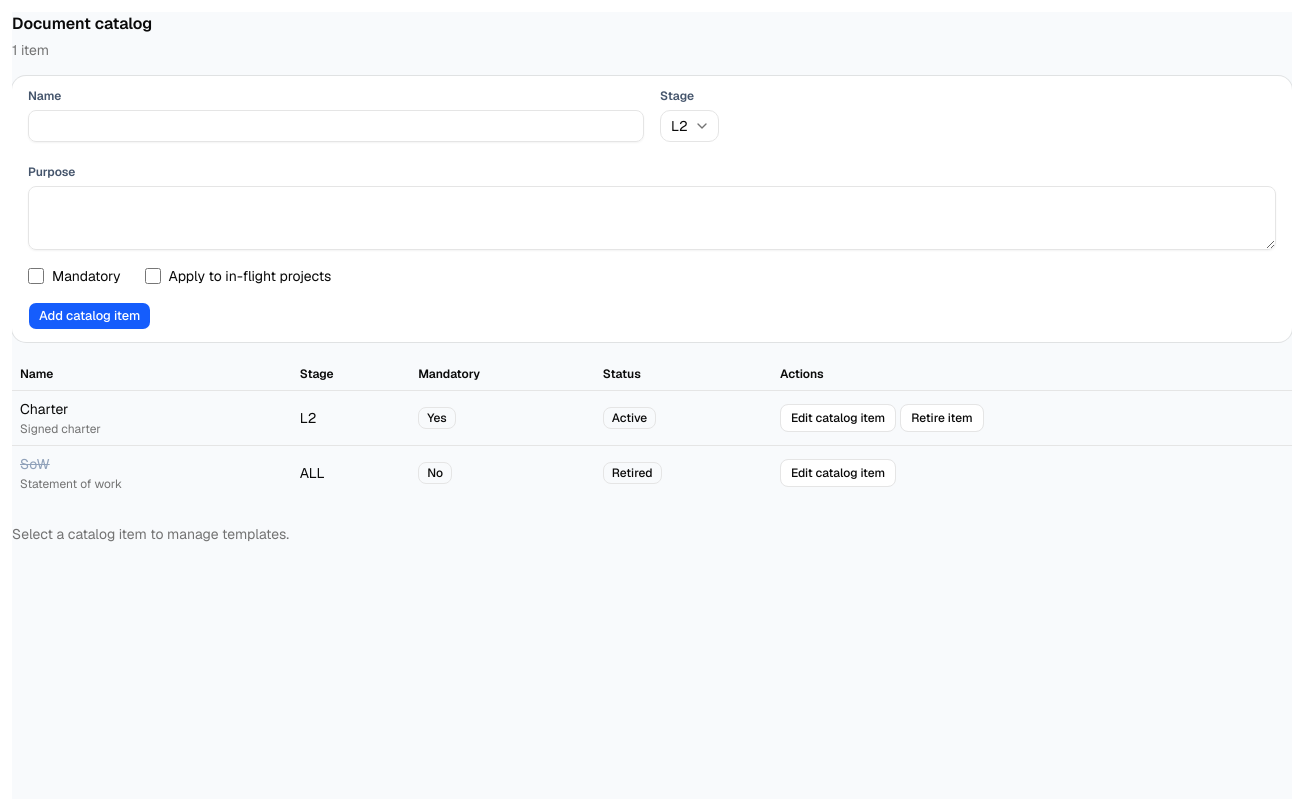
Test: DocumentCatalogPage › templates panel › ignores stale template GET when catalog selection changes quickly
Step 1. Click the text "Charter" → {"x": 44, "y": 408}, box [20,400,68,418]
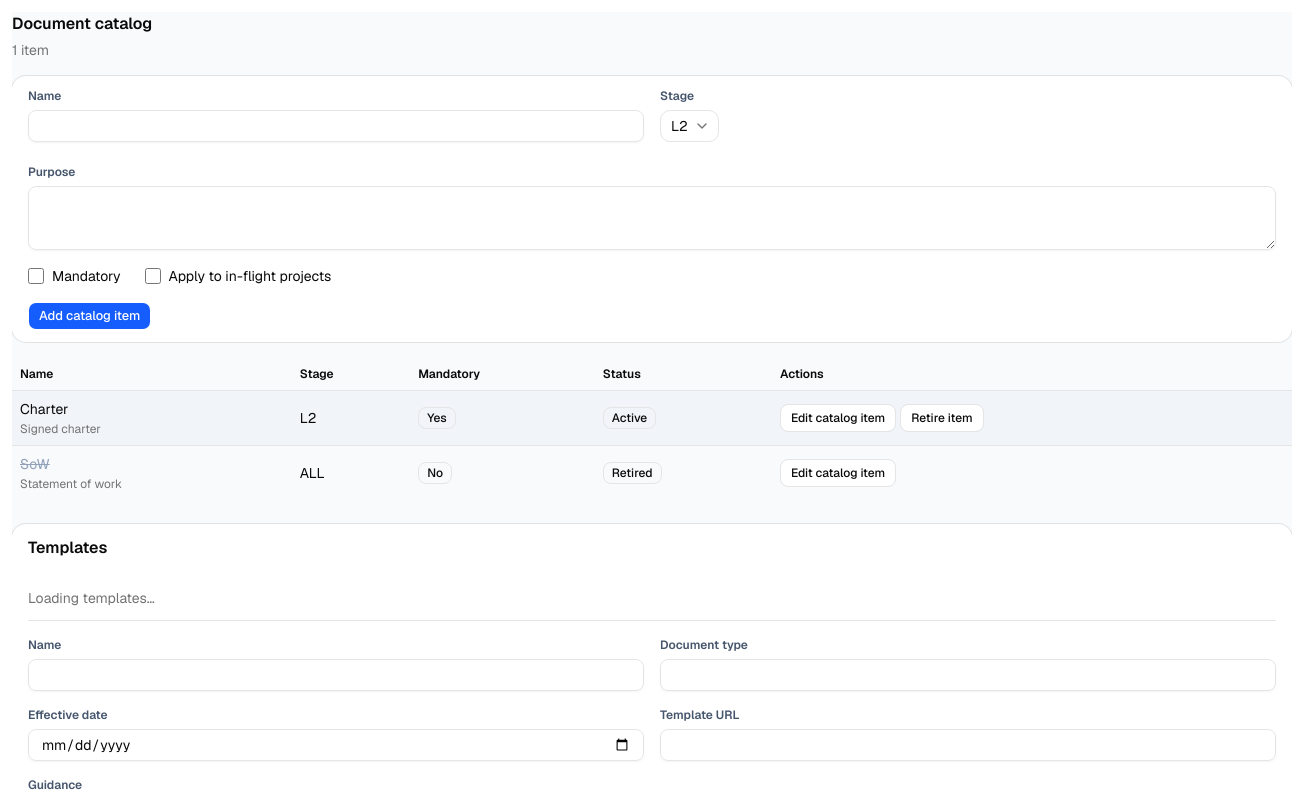
Step 2. Click the text "SoW" → {"x": 35, "y": 464}, box [20,454,50,472]
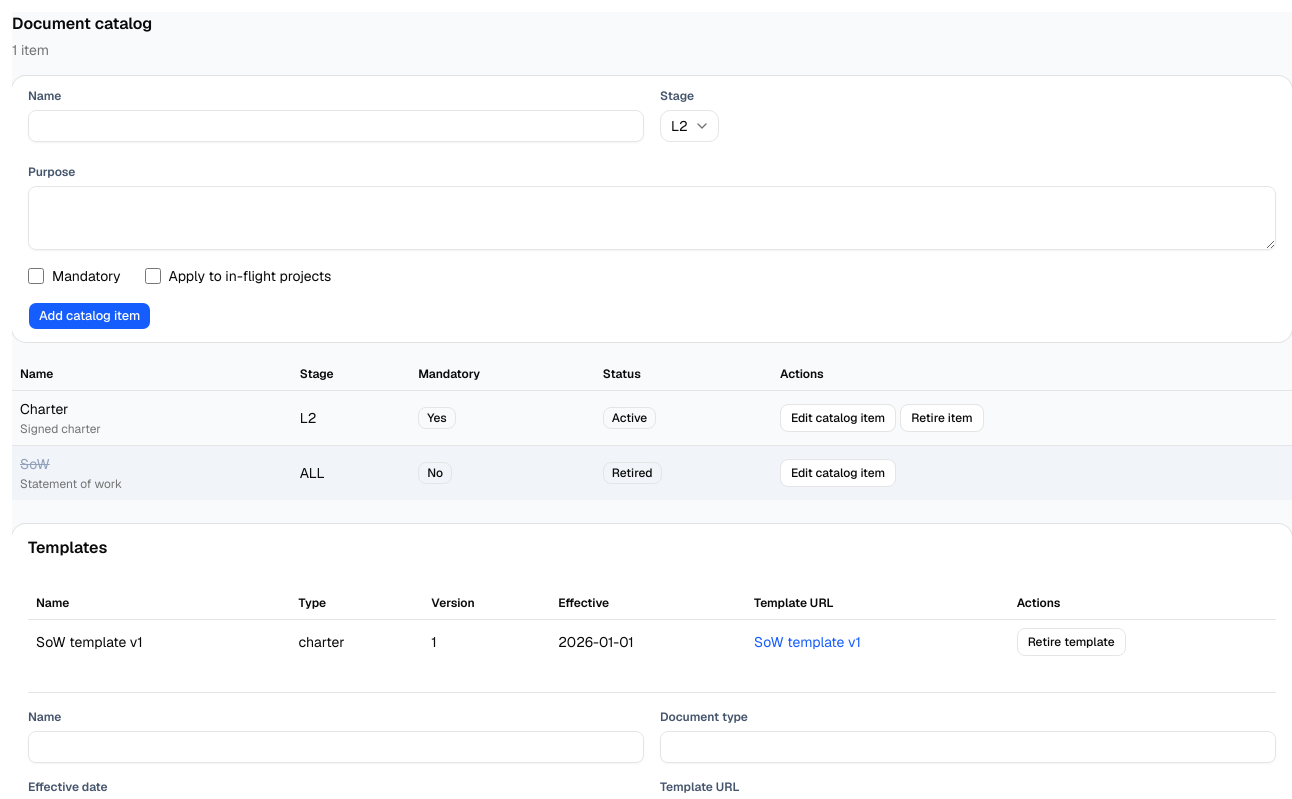
Check: the link "SoW template v1" is shown, box [754,633,861,651]
